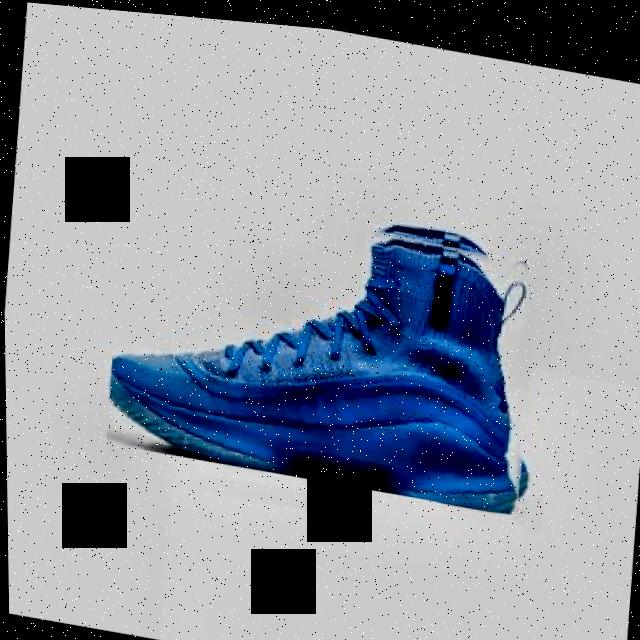shoe: (101, 168, 549, 509)
